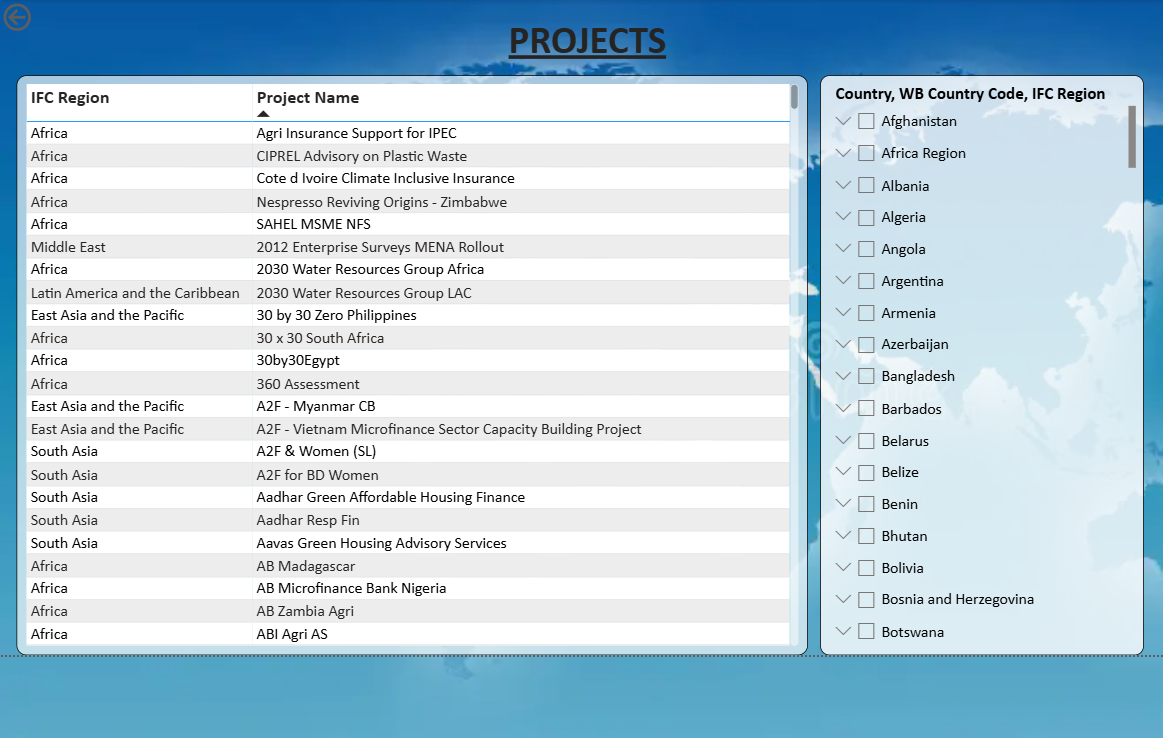

What the dashboard file says about the page in this screenshot:
{"tool":"powerbi","page":{"name":"Page 7","canvas":[1280,720],"ordinal":6},"visuals":[{"type":"tableEx","fields":{"Values":["Cleaned dataset.IFC Region","Cleaned dataset.Project Name"]},"box":[19.2,83.7,868.6,636.7],"z":0},{"type":"slicer","fields":{"Values":["Cleaned dataset.Country Hierarchy.Country","Cleaned dataset.Country Hierarchy.WB Country Code","Cleaned dataset.Country Hierarchy.IFC Region"]},"box":[901.5,83.7,355.4,636.7],"z":1000},{"type":"textbox","box":[554.4,13.7,299.1,70],"z":2000}]}

Visuals, with their boxes on the page's 1280x720 design canvas (x1, y1, x2, y2). These are canvas units, not pixel positions in the 1163x738 screenshot, which may show the page scaled, cropped or inside an application window:
tableEx - Cleaned dataset.IFC Region x Cleaned dataset.Project Name: locate(19, 84, 888, 720)
slicer - Cleaned dataset.Country Hierarchy.Country x Cleaned dataset.Country Hierarchy.WB Country Code: locate(902, 84, 1257, 720)
textbox: locate(554, 14, 854, 84)
